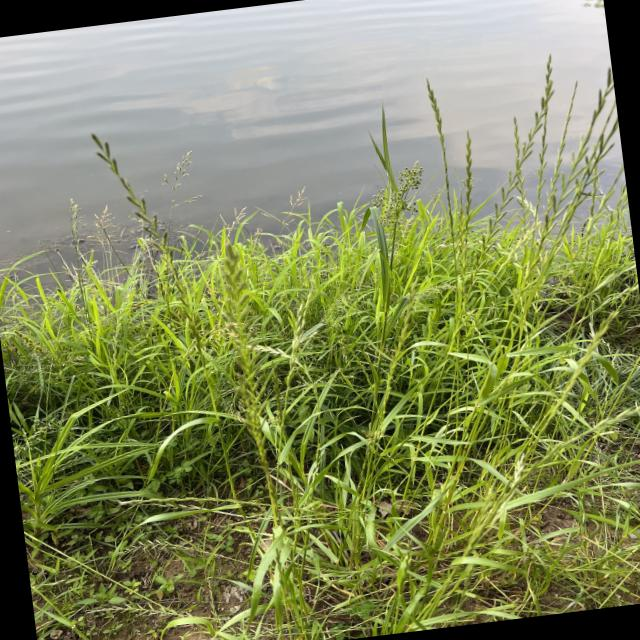Lolium: (25, 166, 640, 540), (388, 328, 635, 630), (214, 239, 338, 636), (100, 123, 228, 318), (536, 52, 607, 296), (412, 80, 489, 281), (367, 106, 432, 294)
